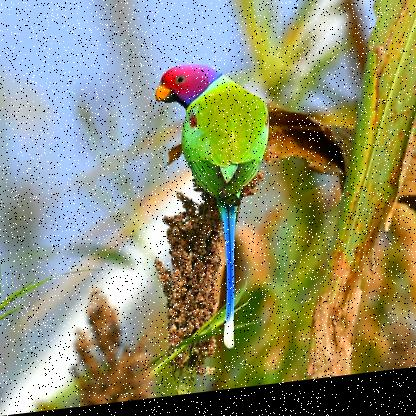Burung: (155, 61, 269, 362)
